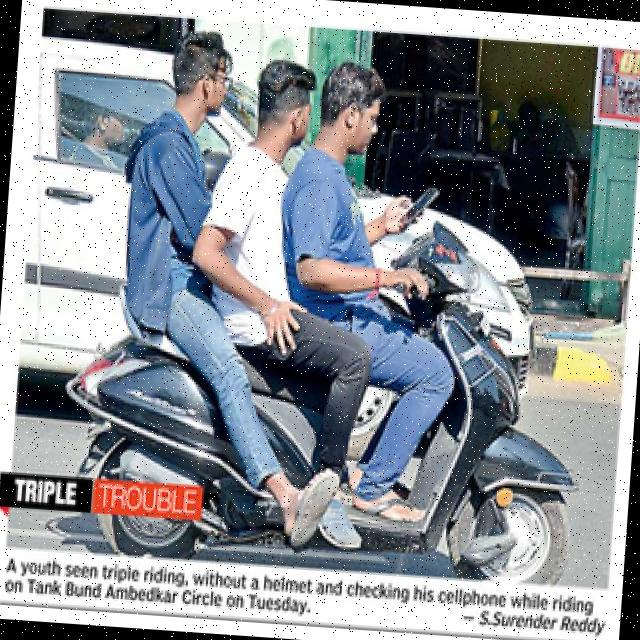No helmet: (308, 51, 393, 168)
Triple riding: (88, 4, 470, 434)
